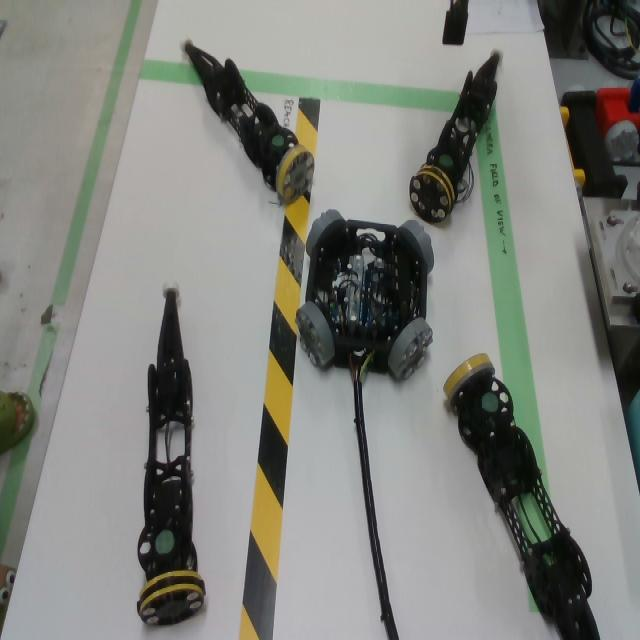body: (306, 219, 427, 373)
body_connector: (387, 317, 433, 381), (295, 301, 336, 368), (398, 220, 435, 275), (306, 209, 346, 257)
leg: (443, 353, 601, 640), (136, 277, 206, 628), (180, 36, 315, 205), (409, 47, 503, 224)
leg_connector: (137, 571, 206, 627), (443, 353, 495, 407), (409, 164, 455, 224), (276, 145, 315, 204)
leg_marker: (155, 531, 174, 555), (482, 392, 499, 413), (439, 153, 454, 167), (272, 135, 284, 146)
